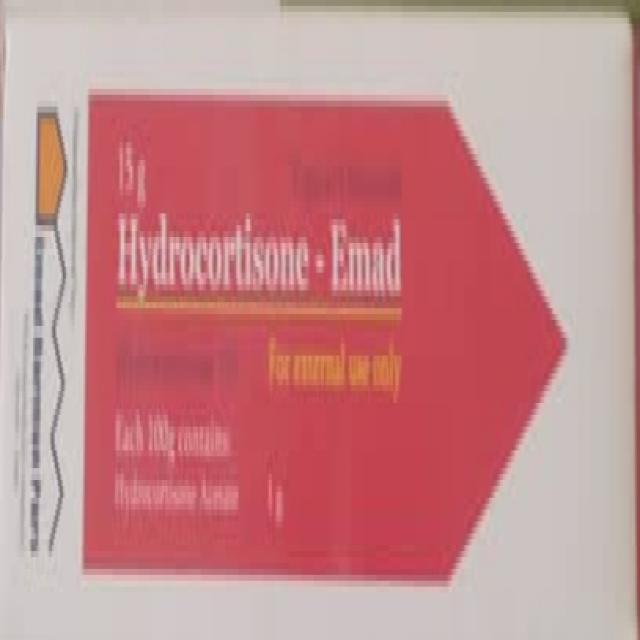drug-name: (114, 210, 408, 309)
